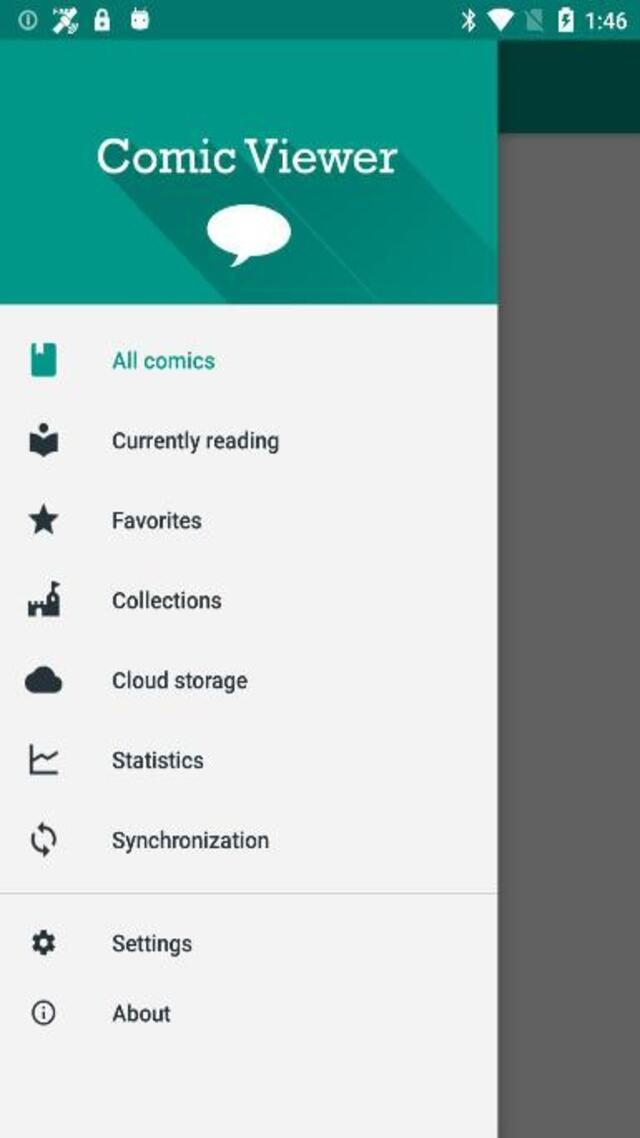Icon: (28, 579, 62, 616), (24, 665, 62, 693), (27, 503, 59, 535), (29, 421, 57, 457), (29, 821, 56, 858), (29, 342, 56, 376), (29, 744, 57, 776), (32, 930, 54, 955), (32, 1000, 54, 1024)
Image: (207, 204, 292, 270)
Text: (93, 136, 396, 176), (113, 829, 269, 854), (113, 429, 279, 452), (112, 669, 247, 692), (112, 589, 220, 609), (112, 349, 215, 369), (113, 932, 193, 956), (112, 750, 204, 770), (114, 509, 202, 529), (112, 1002, 170, 1022)
